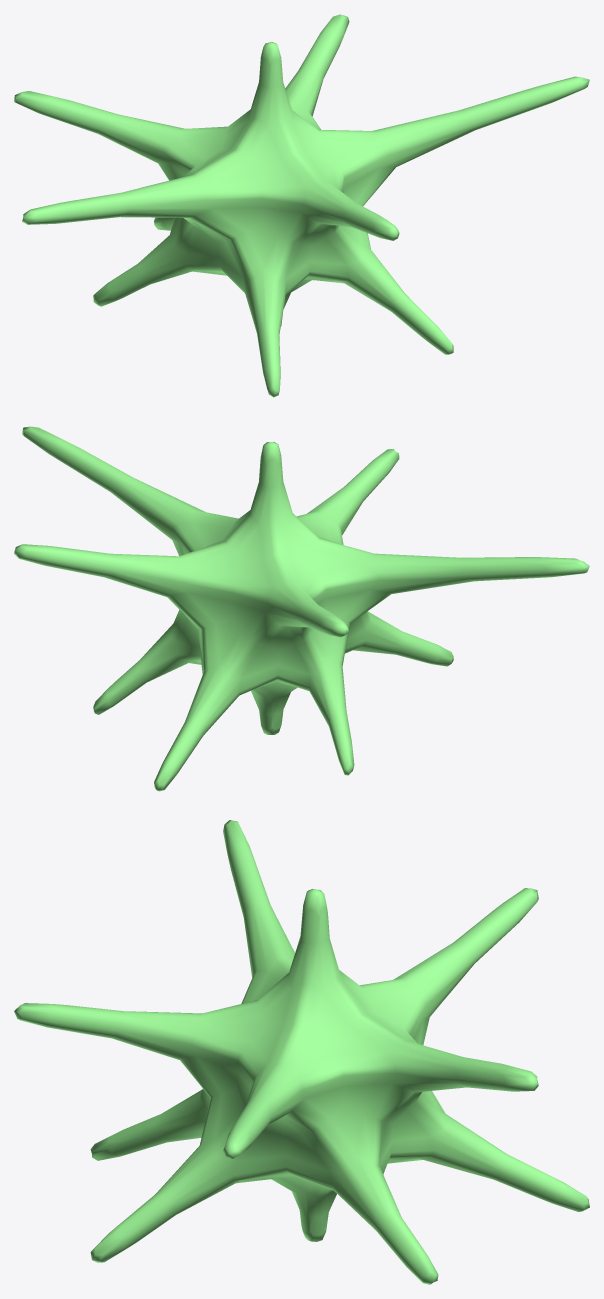
File: Sugisang_Cell.fbx
3 renders of one model, top to bottom at view 1: azimuth 30°, elevation 25°; view 2: azimuth 150°, elevation 25°; view 3: azimuth 270°, elevation 25°, orthographic. The views are drawn at different scales.
Visible parts, largest first — view 1: Sugisang_Cell; view 2: Sugisang_Cell; view 3: Sugisang_Cell.
Part boxes in pixels (box(x1,y1,x2,y2)): Sugisang_Cell: box(14, 14, 589, 397); Sugisang_Cell: box(14, 426, 589, 791); Sugisang_Cell: box(14, 820, 589, 1284).
Size of the model in its own units: 4.36 by 2.14 by 3.19.
